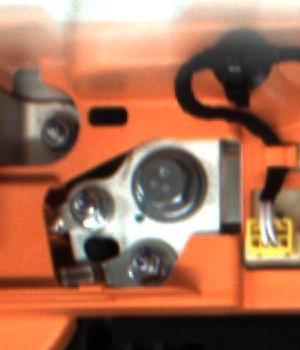nut_b: (130, 136, 206, 230)
